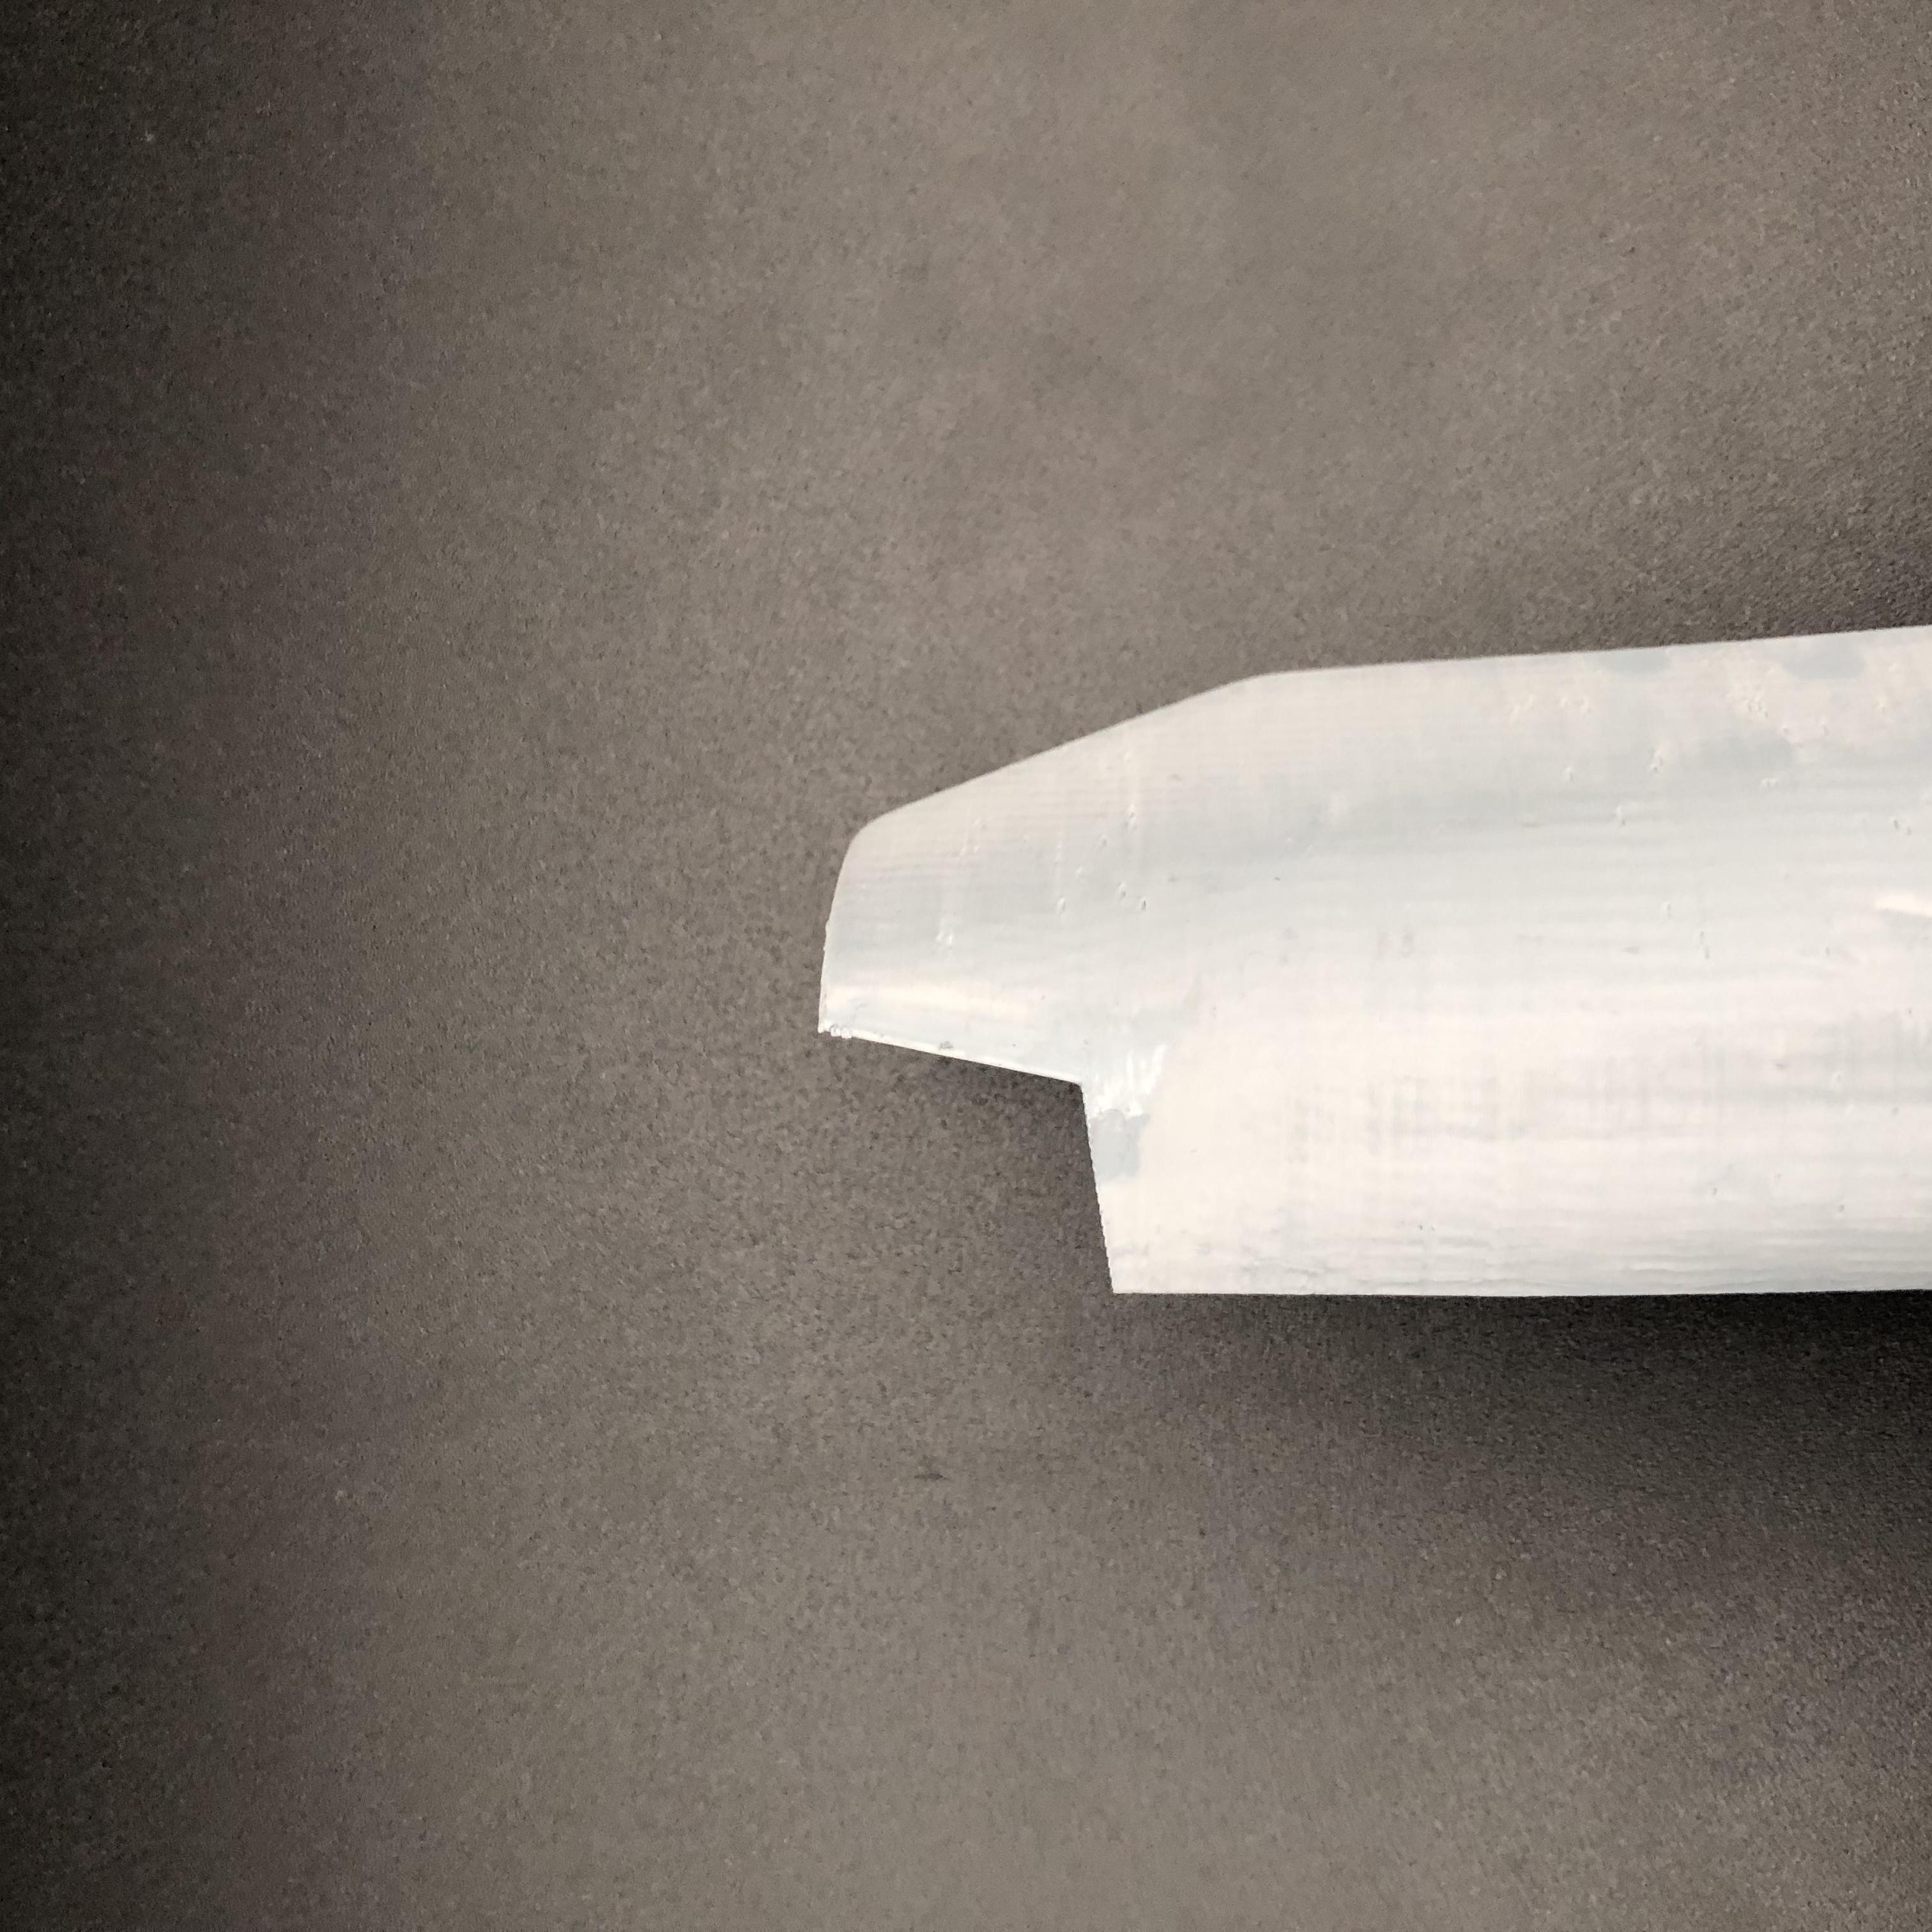fracture: (814, 996, 1143, 1302)
